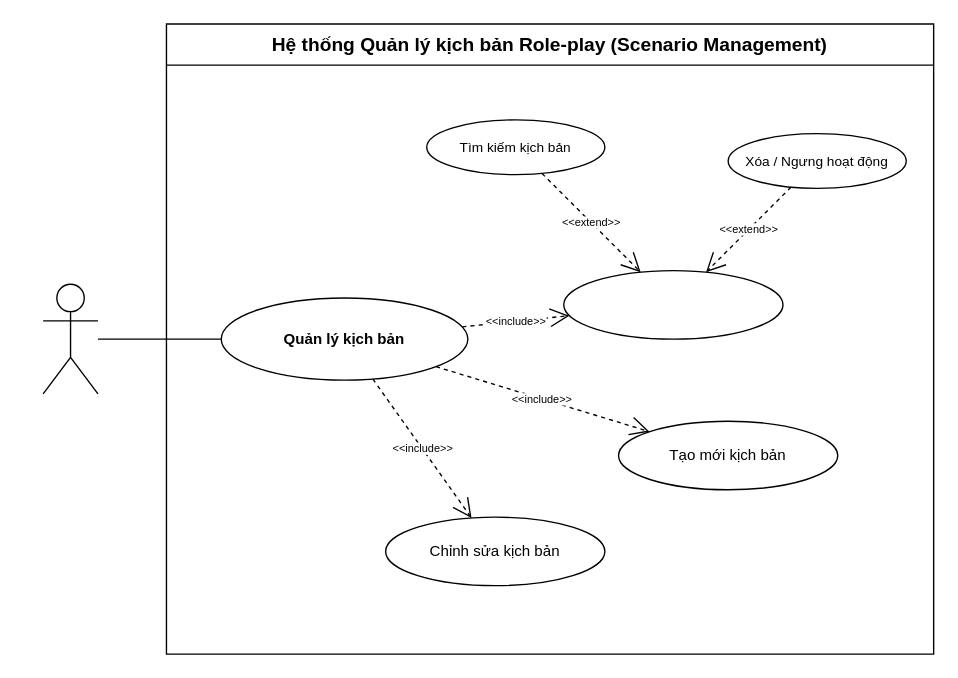
Image size: 958x678. Some labels were removed from this diagram. Each missing label, with the centre of its shape:
Quản trị viên: the point at 70,338
Xem danh sách kịch bản: the point at 672,304
